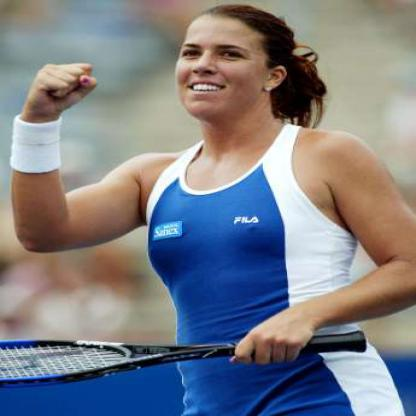face: (174, 8, 269, 123)
